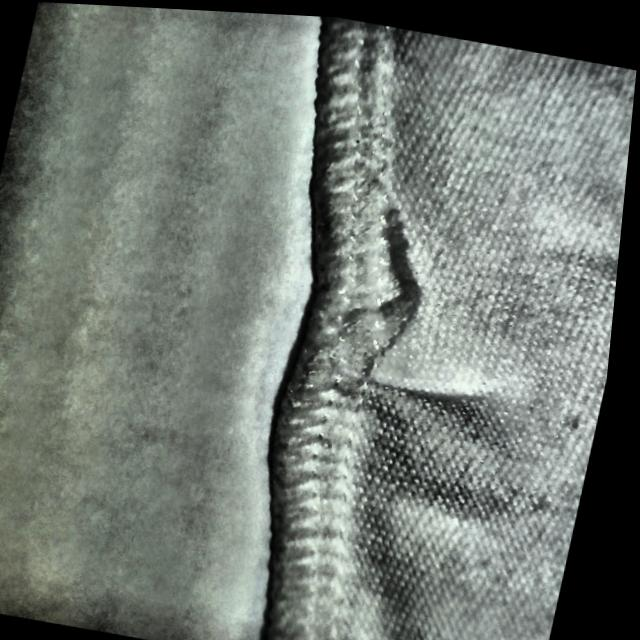seam: (282, 234, 502, 459)
